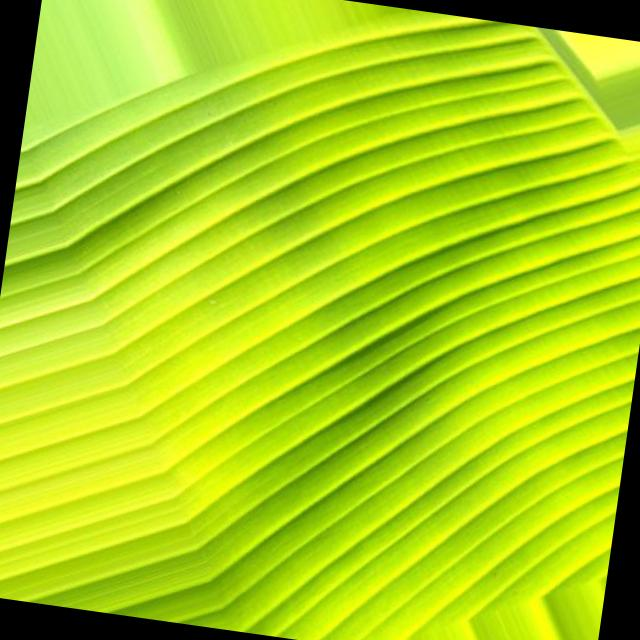Banana_Healthy: (118, 154, 464, 533)
